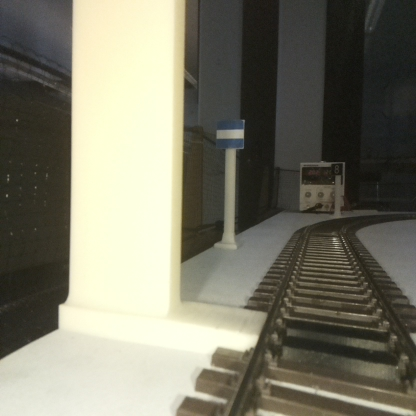start: (216, 121, 243, 247)
